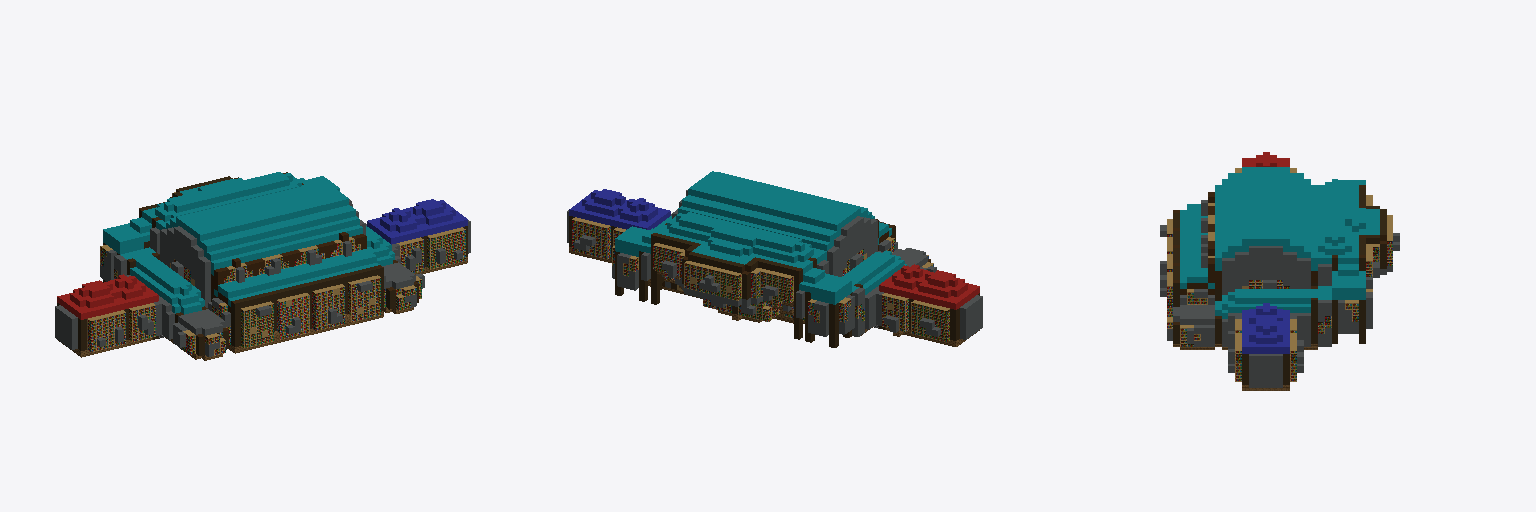
3 views of the same model, side by side, from view 1: azimuth 30°, elevation 25°; view 2: azimuth 150°, elevation 25°; view 3: azimuth 270°, elevation 25° (orthographic).
Size of the model in its own units: 67 by 17 by 35.
Materials: 35 (13 with a texture image).